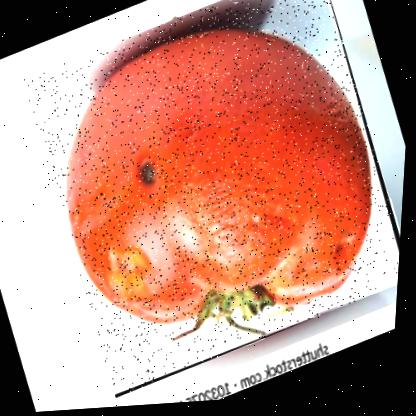tomato_rotten: (6, 0, 415, 407)
